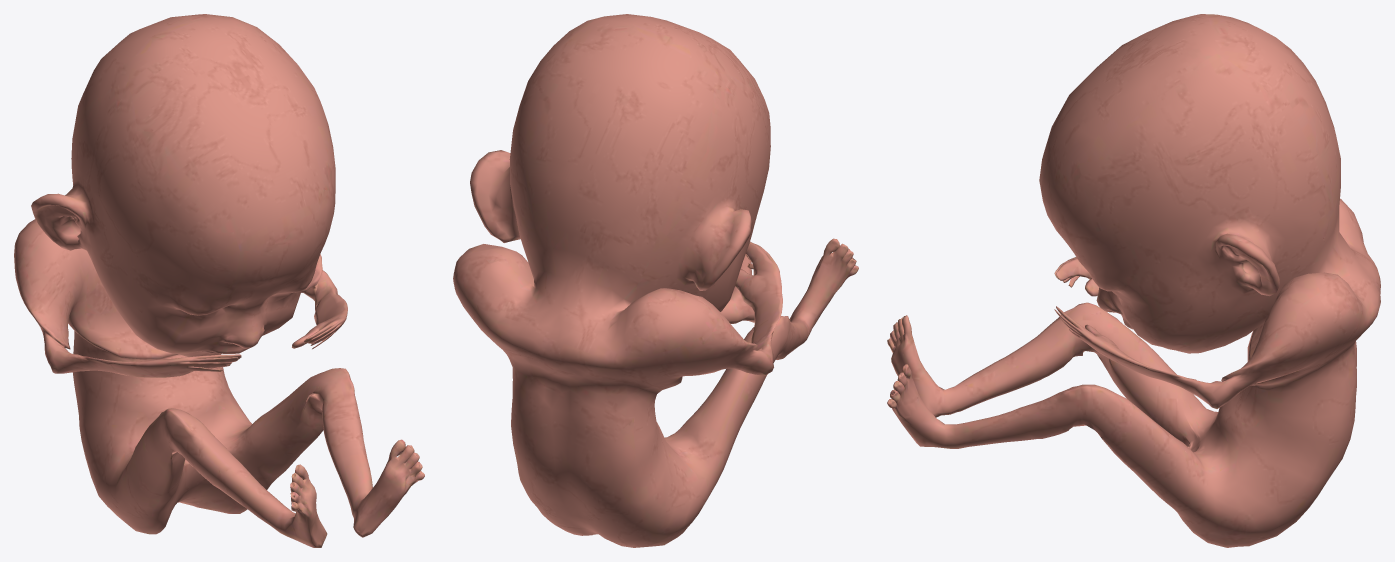
The picture shows the model from 3 angles, left to right: view 1: azimuth 30°, elevation 25°; view 2: azimuth 150°, elevation 25°; view 3: azimuth 270°, elevation 25°; orthographic projection.
Parts seen in each view (by area): view 1: Baby; view 2: Baby; view 3: Baby.
Boxes of the visible parts, <box> form: Baby: <box>14,14,424,547</box>; Baby: <box>453,14,858,547</box>; Baby: <box>887,14,1380,547</box>.
Size of the model in its own units: 0.0351 by 0.0587 by 0.0525.
1 material, 1 textured.
